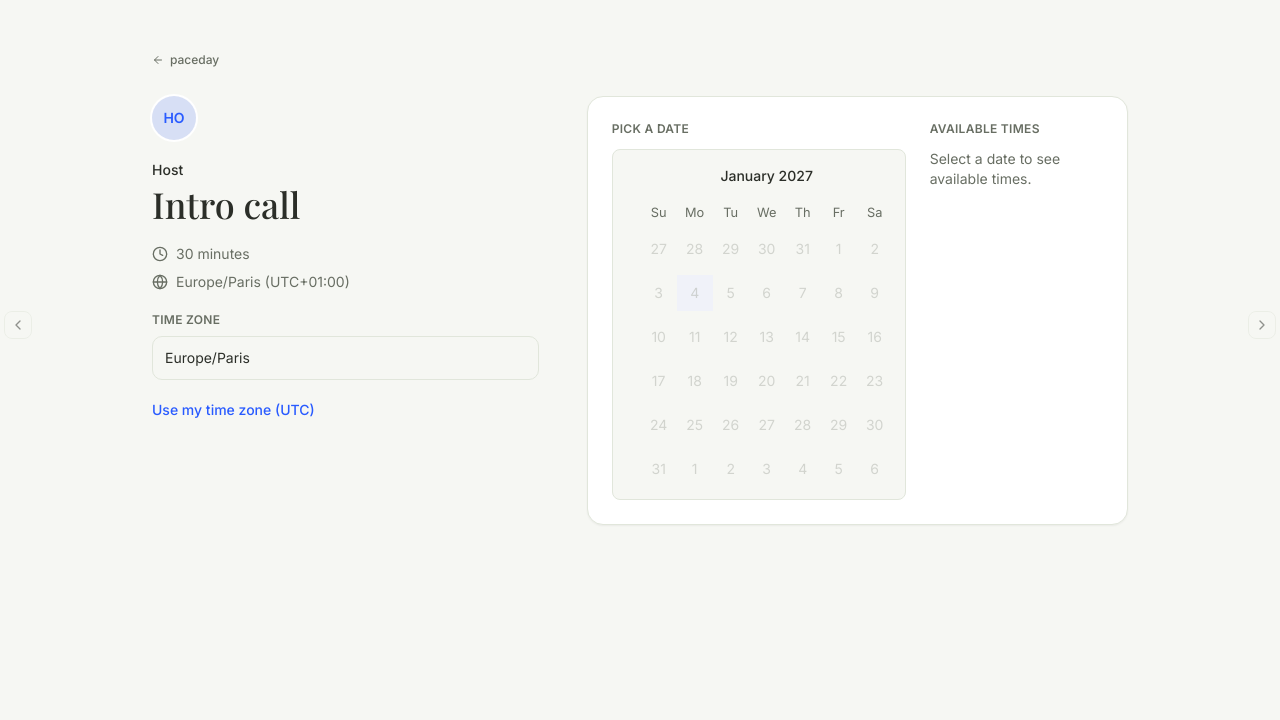
Test: PAC-88 days of the displayed zone › AC-10: a Monday-only Paris link shown in Pacific/Auckland lists Monday 9:00-11:45 PM and Tuesday 12:00-4:30 AM, no other day
Replace the text in the dropdown labelled "Time zone" with "Pacific/Auckland": (345, 358) x1=152 y1=336 x2=539 y2=380
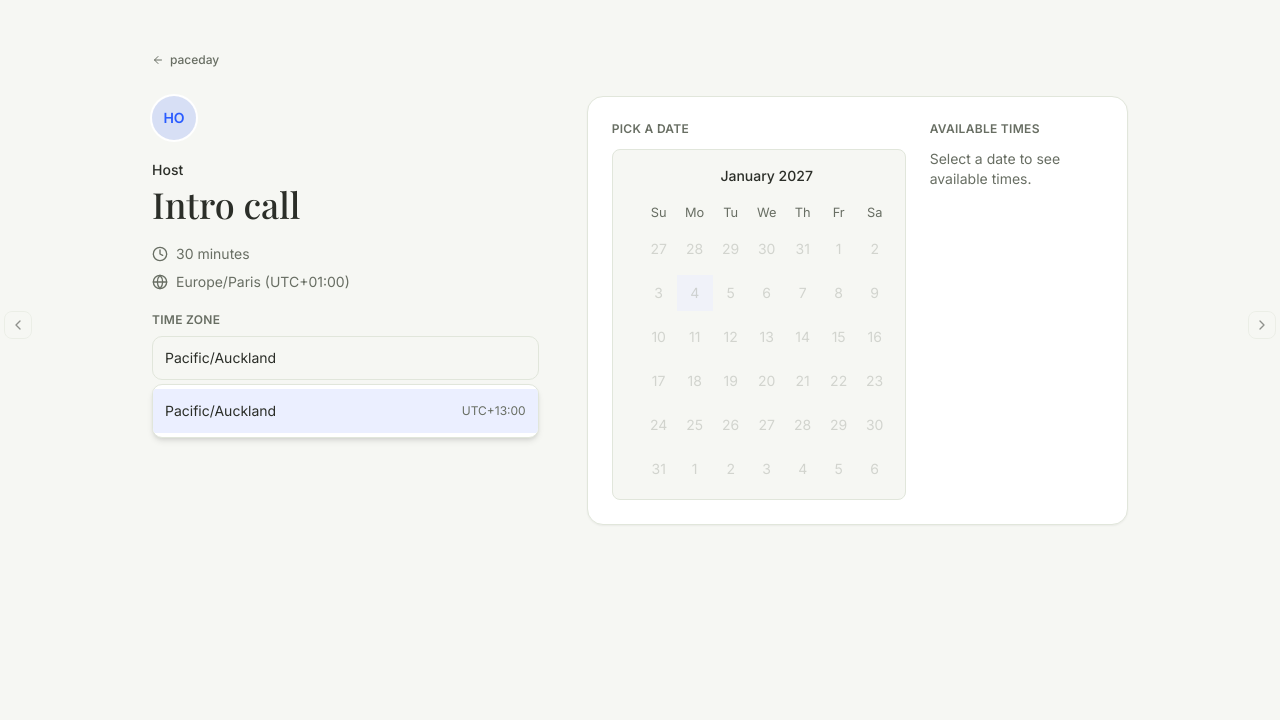
Click the option "Pacific/Auckland UTC+13:00": (221, 410) x1=153 y1=389 x2=538 y2=433
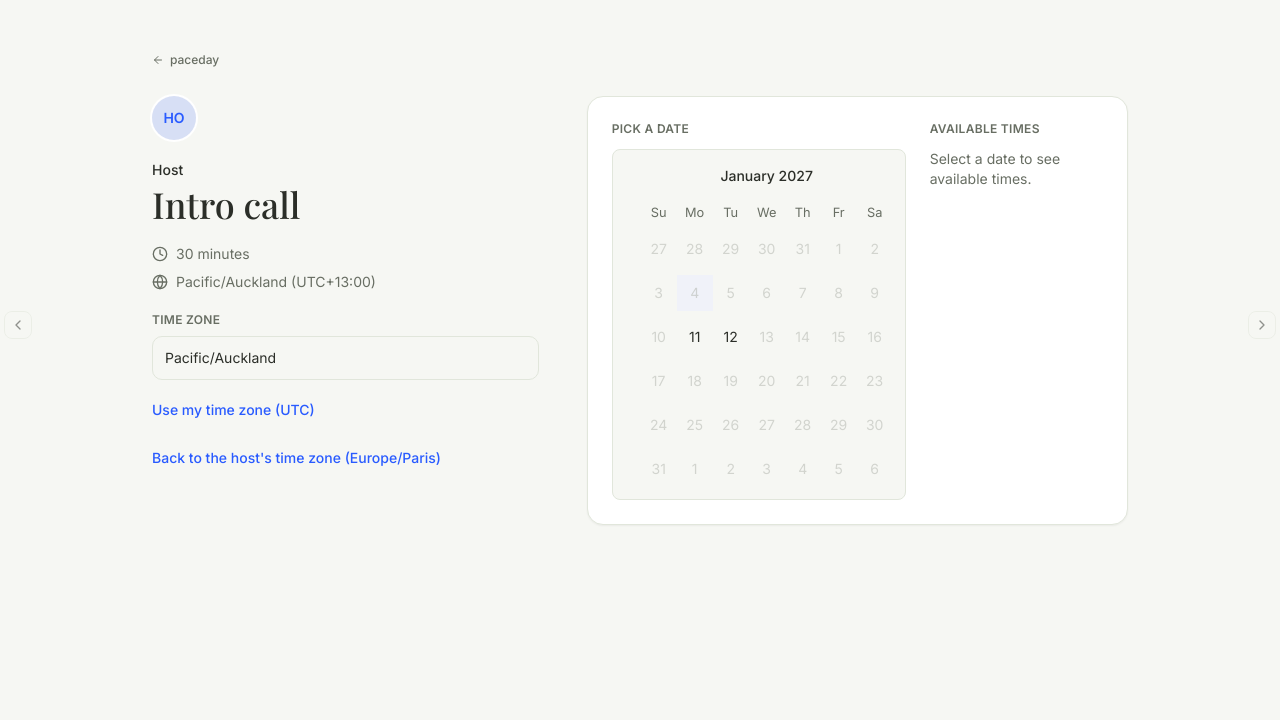
Click the button "11": (695, 337) x1=677 y1=319 x2=713 y2=355
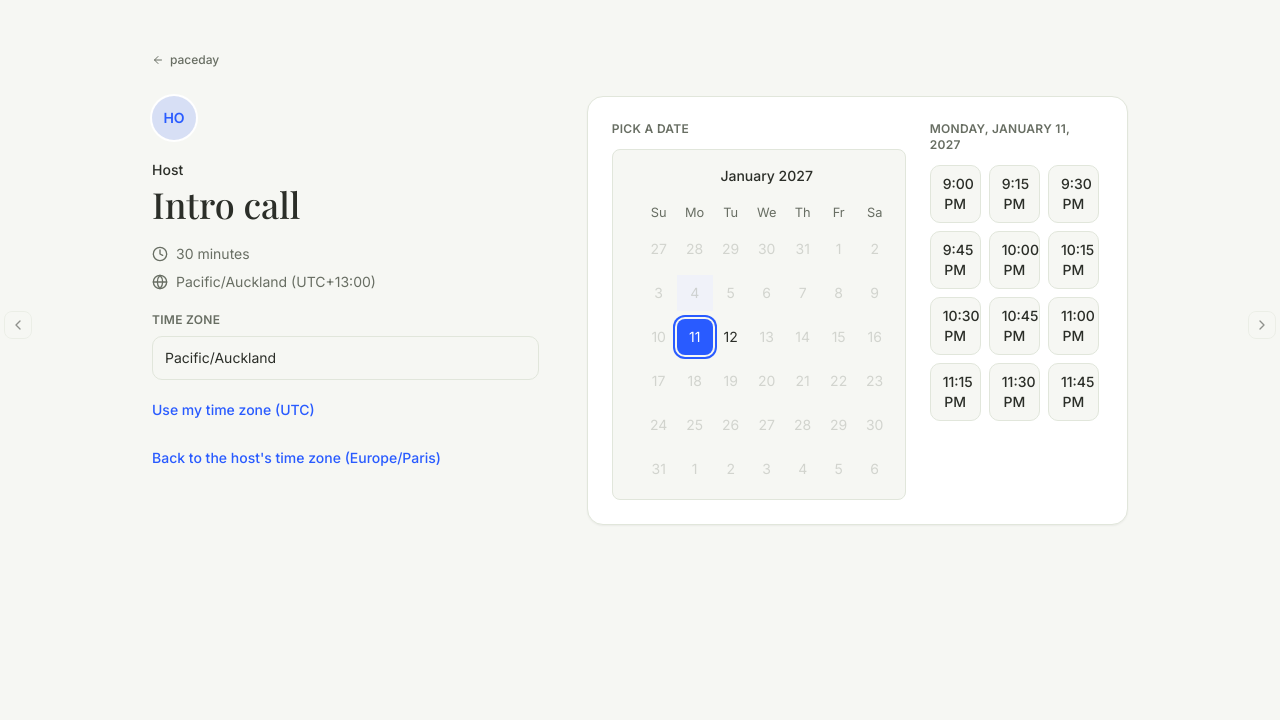
Expected: the button labelled "9:00 PM" is shown, x1=930 y1=165 x2=981 y2=223
Expected: the button labelled "11:45 PM" is shown, x1=1048 y1=363 x2=1099 y2=421
Click the button "12": (731, 337) x1=713 y1=319 x2=749 y2=355
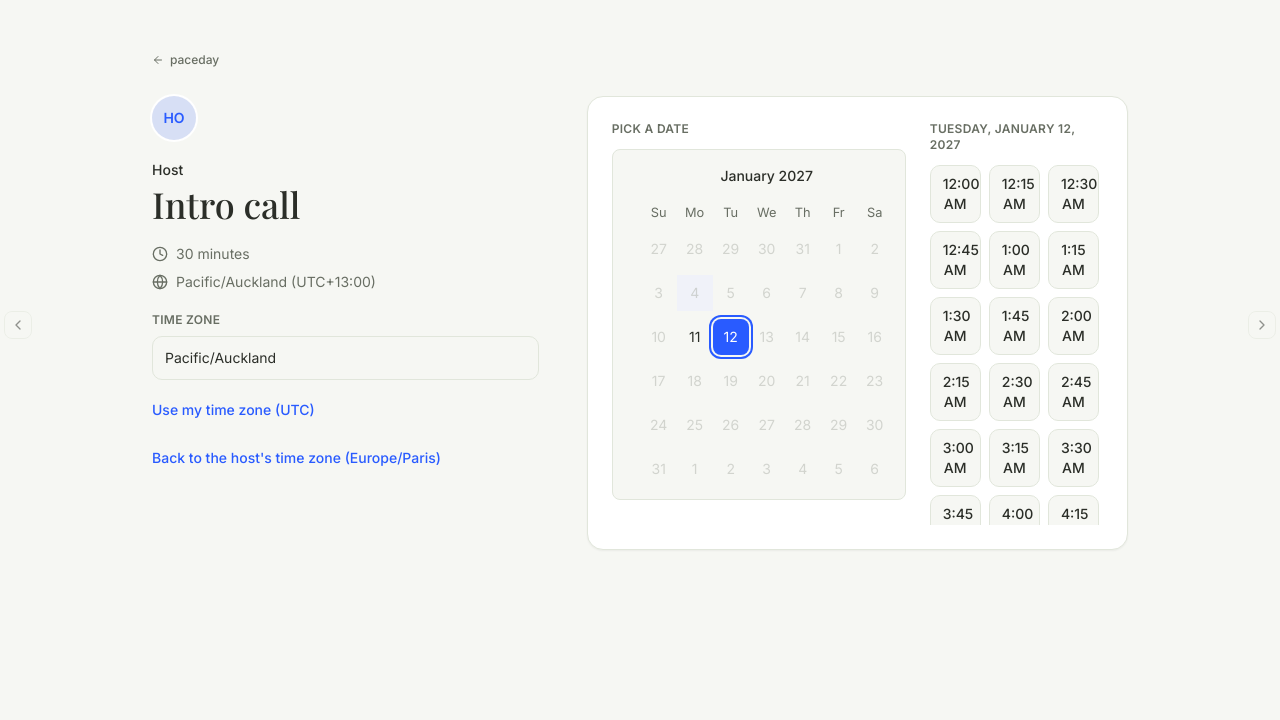
Expected: the button labelled "12:00 AM" is shown, x1=930 y1=165 x2=981 y2=223
